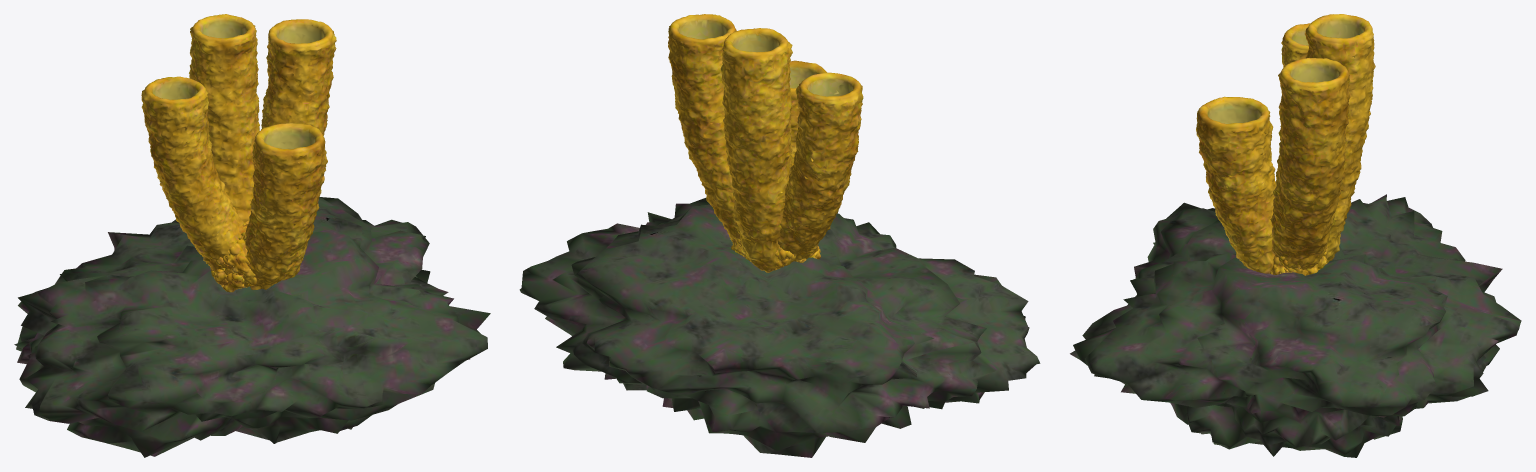
Rendered from porifera.glb.
The picture shows the model from 3 angles, left to right: view 1: azimuth 30°, elevation 25°; view 2: azimuth 150°, elevation 25°; view 3: azimuth 270°, elevation 25°; orthographic projection. The views are drawn at different scales.
Parts seen in each view (by area): view 1: Roca, Esponja; view 2: Roca, Esponja; view 3: Roca, Esponja.
Part boxes in pixels (x1,y1,x2,y2): Roca: (14,197,490,457); Esponja: (141,14,336,292); Roca: (519,198,1040,457); Esponja: (668,14,863,272); Roca: (1070,194,1521,457); Esponja: (1196,14,1375,275).
Bounding box in the file's own units: 1.24 × 0.9822 × 1.06.
Materials: 2 (2 with a texture image).
